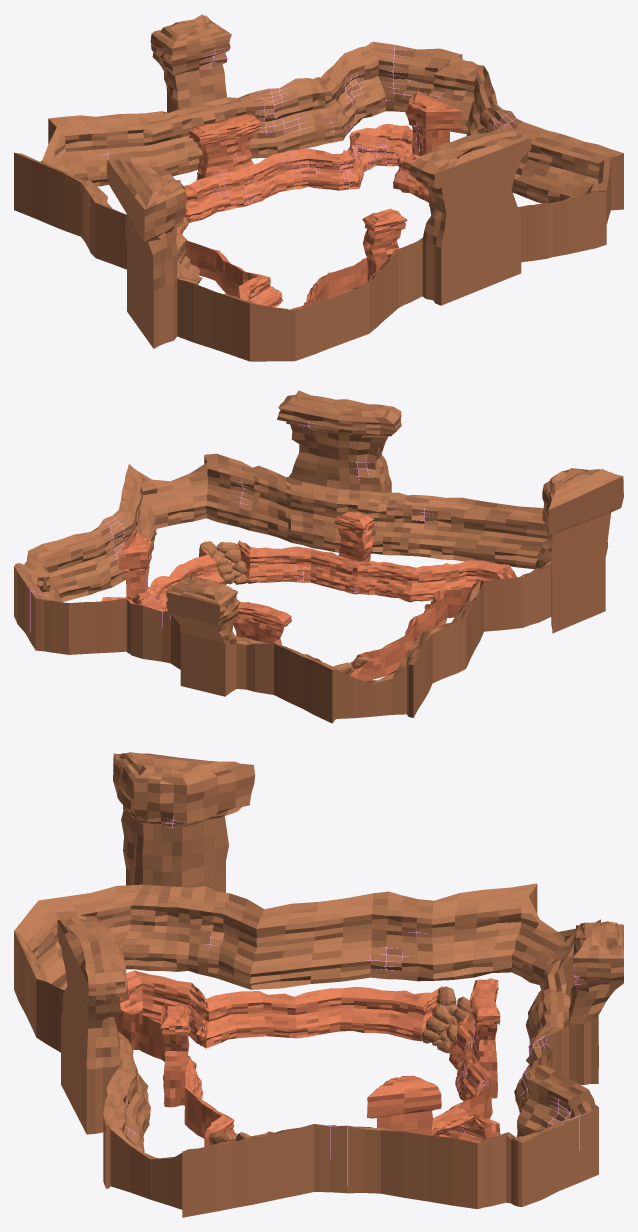
The model's file is Arena V02_Walls.fbx.
3 renders of one model, top to bottom at view 1: azimuth 30°, elevation 25°; view 2: azimuth 150°, elevation 25°; view 3: azimuth 270°, elevation 25°, orthographic. The views are drawn at different scales.
Visible parts, largest first — view 1: Arena_V02_Walls; view 2: Arena_V02_Walls; view 3: Arena_V02_Walls.
Part boxes in pixels (x1,y1,x2,y2): Arena_V02_Walls: (14, 14, 623, 361); Arena_V02_Walls: (14, 390, 623, 723); Arena_V02_Walls: (14, 752, 623, 1217).
Size of the model in its own units: 25625 by 8413 by 22536.
